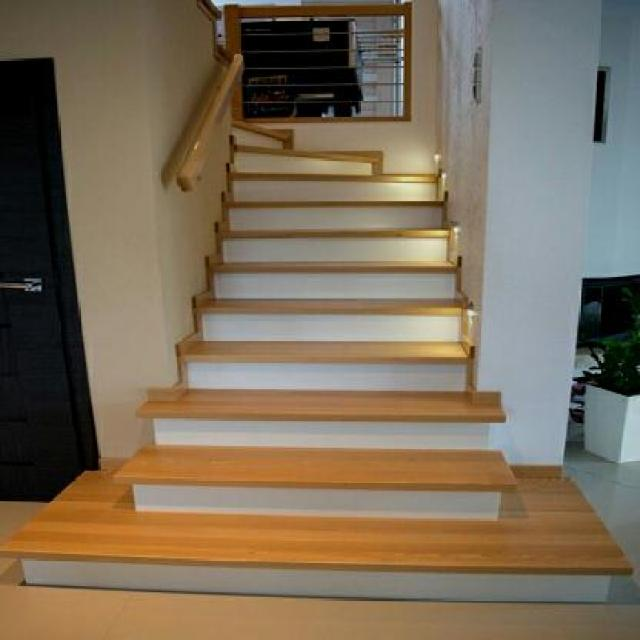stair: (135, 101, 597, 598)
